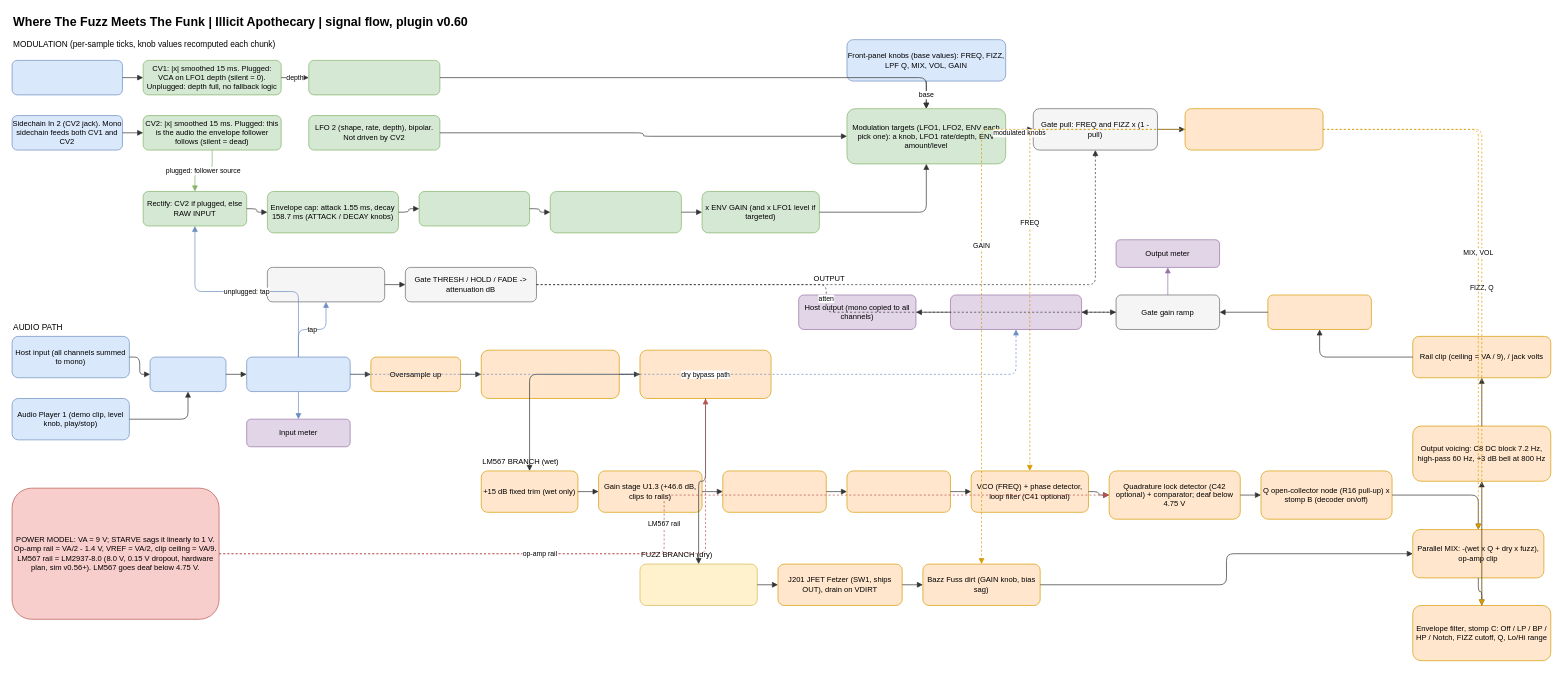
Some shapes in this 1563 by 673 pixel diagram are drawn without their labels. Here are the shapes that lost their labels. From the top down, the centre of each, then its label:
At [66,77]: "Sidechain In 1 (CV1 jack). Bus off by default; connected = plugged".
At [374,77]: "LFO 1 (shape, rate, depth x CV1), unipolar".
At [1253,129]: "Wtf567 params (freq, fizz, Q, mix, vol, gain, stomps, STARVE)".
At [474,208]: "Vactrol lag: 2.5 ms on, 35 ms off".
At [615,212]: "THRESHOLD, RATIO, SHAPE, then Mu-Tron vactrol law".
At [326,284]: "Gate follower: |raw input|, 10 ms".
At [1016,311]: "Bypass crossfade (10 ms) against RAW INPUT".
At [1319,311]: "Oversample down".
At [187,374]: "Mono sum".
At [298,374]: "RAW INPUT COPY (liveIn)".
At [550,373]: "Jack network: x jack volts, C1 DC block 0.33 Hz, 24 dB/oct high-pass 40 Hz".
At [705,373]: "Input buffer U1.1 (clips at op-amp rail) = clean DRY tap".
At [774,491]: "C3 high-pass 36 Hz + noise floor".
At [898,491]: "Input limiter / comparator (hysteresis)".
At [698,584]: "Stomp A: fuzz on/off (off = clean buffer to mixer)".
